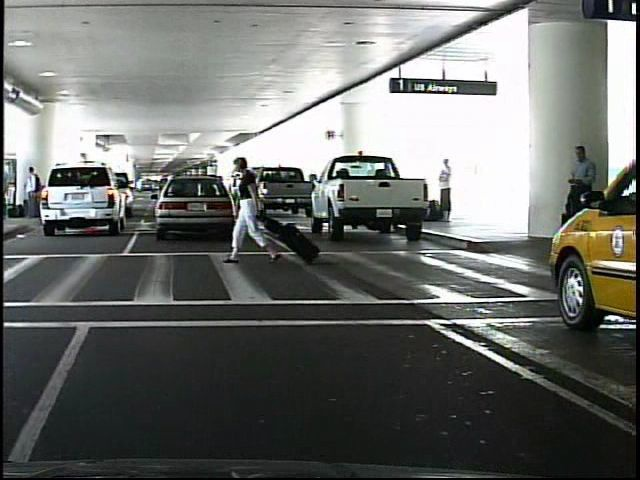person: (558, 141, 599, 249), (236, 155, 276, 263), (434, 155, 459, 223), (25, 162, 43, 223)
